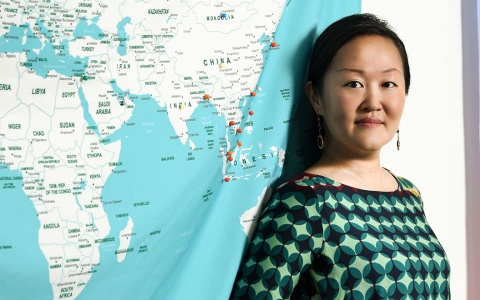female: (298, 14, 424, 170)
